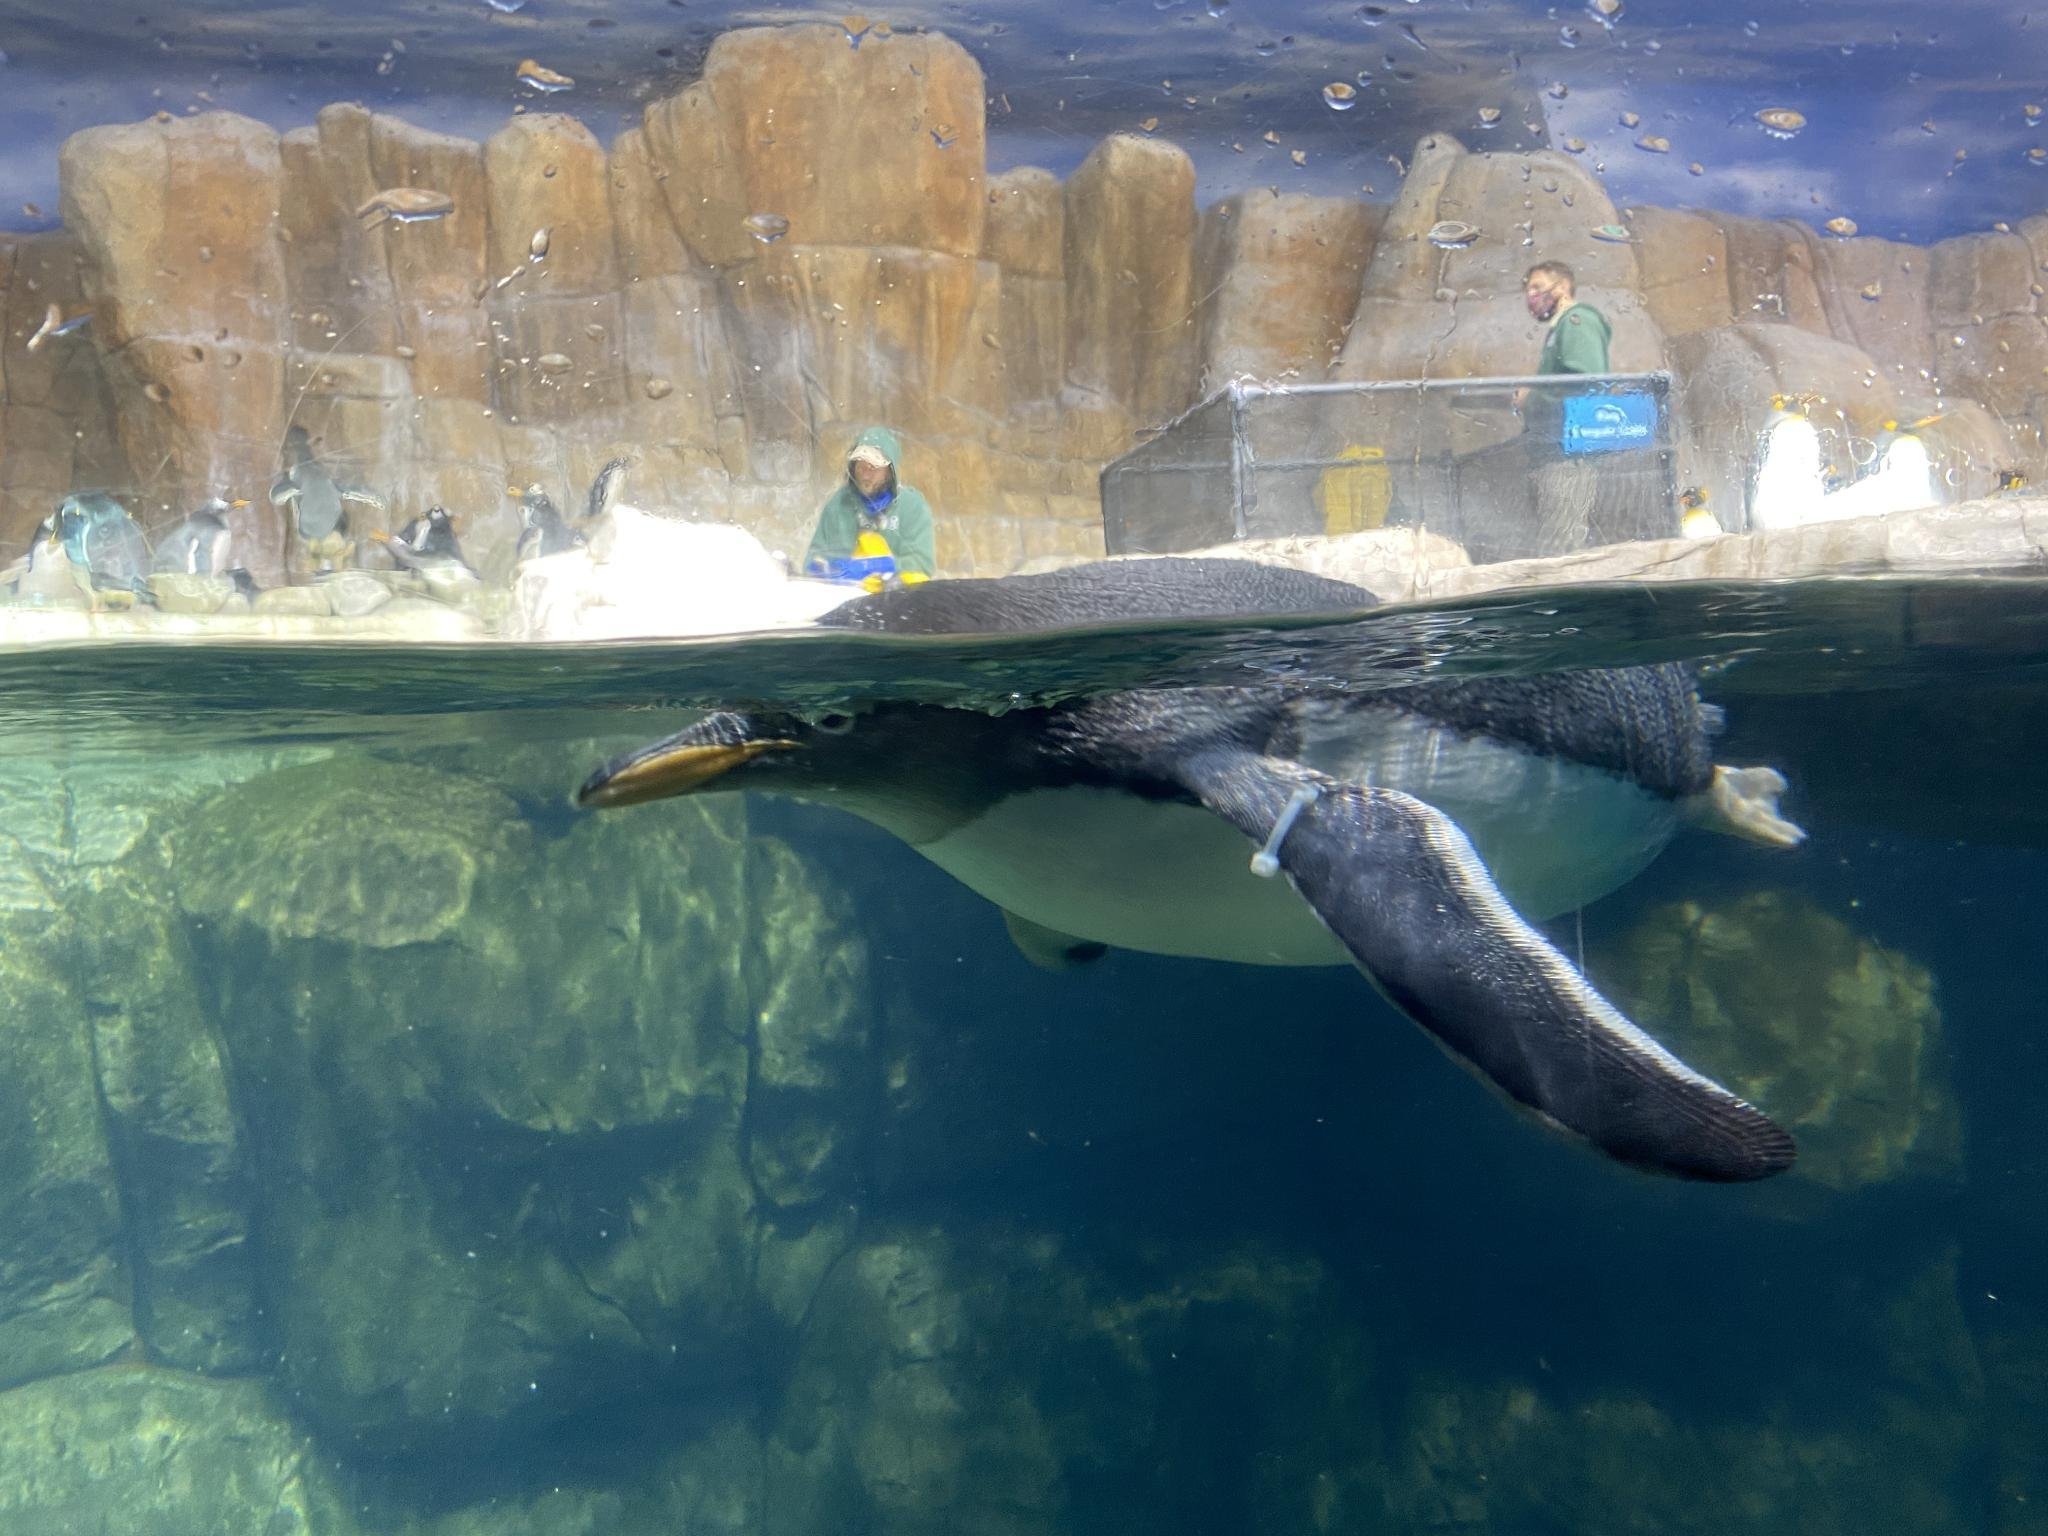penguin: (572, 557, 1811, 1186), (271, 426, 377, 553), (58, 492, 163, 608), (1751, 390, 1827, 529), (156, 492, 250, 578), (1866, 411, 1945, 508), (503, 481, 572, 566), (6, 503, 65, 602), (397, 503, 464, 579), (590, 452, 637, 521), (1671, 482, 1722, 544), (1992, 465, 2035, 513)
